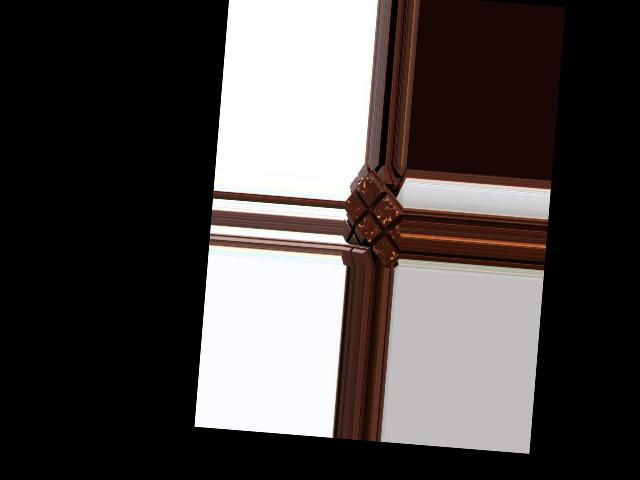chocolate: (341, 174, 406, 267)
